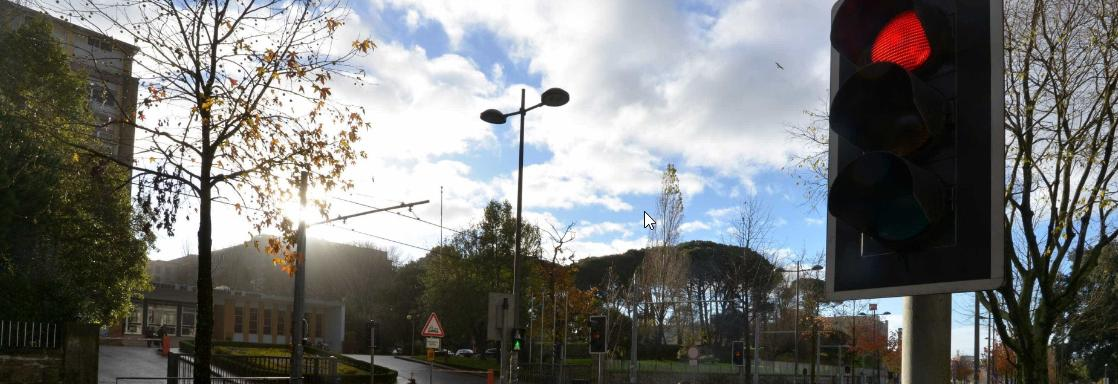red_light: (824, 0, 1004, 301)
yellow_light: (588, 316, 608, 354), (732, 341, 744, 366)
